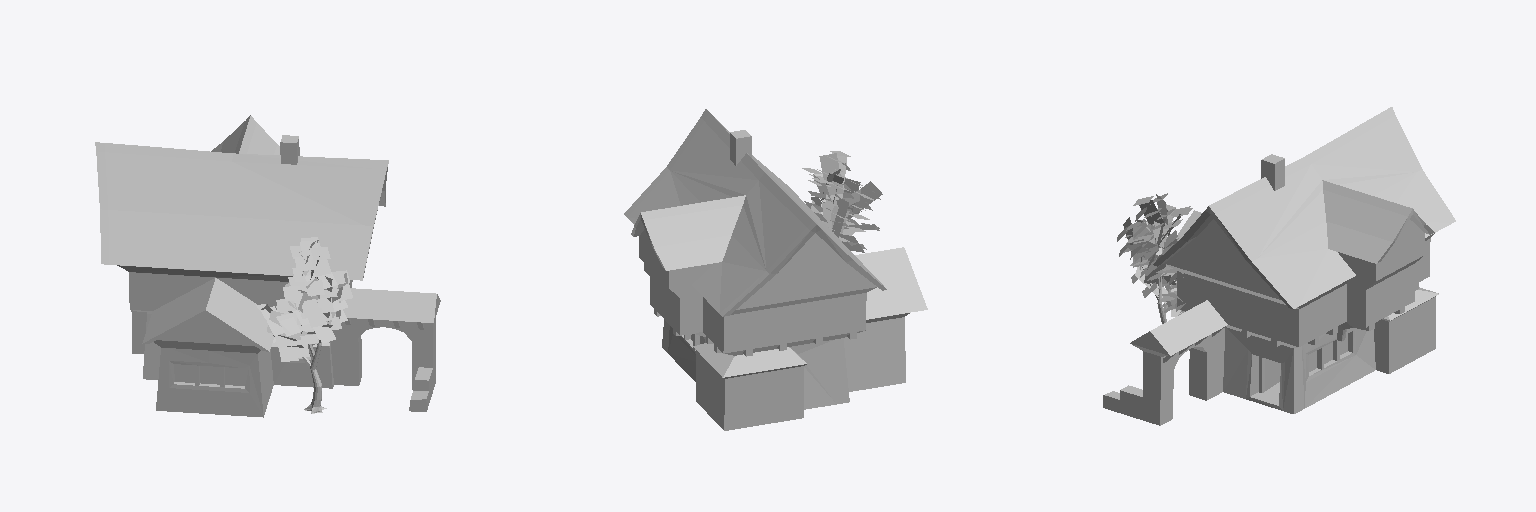
Rendered from building3.obj.
The picture shows the model from 3 angles: view 1: azimuth 30°, elevation 25°; view 2: azimuth 150°, elevation 25°; view 3: azimuth 270°, elevation 25°; orthographic projection.
Visible parts, largest first — view 1: DrawCall_3, DrawCall_0, DrawCall_4, DrawCall_6, DrawCall_5; view 2: DrawCall_0, DrawCall_3, DrawCall_6, DrawCall_4; view 3: DrawCall_0, DrawCall_3, DrawCall_6, DrawCall_4.
Part boxes in pixels (x1,y1,x2,y2): DrawCall_3: (104,118,437,347); DrawCall_0: (95,115,440,417); DrawCall_4: (256,237,352,361); DrawCall_6: (261,240,347,355); DrawCall_5: (302,340,326,413); DrawCall_0: (624,109,927,430); DrawCall_3: (627,113,918,377); DrawCall_6: (811,153,882,252); DrawCall_4: (802,151,880,249); DrawCall_0: (1103,107,1455,425); DrawCall_3: (1146,110,1451,355); DrawCall_6: (1123,194,1183,316); DrawCall_4: (1117,193,1192,312).
Size of the model in its own units: 1514 by 1180 by 1687.